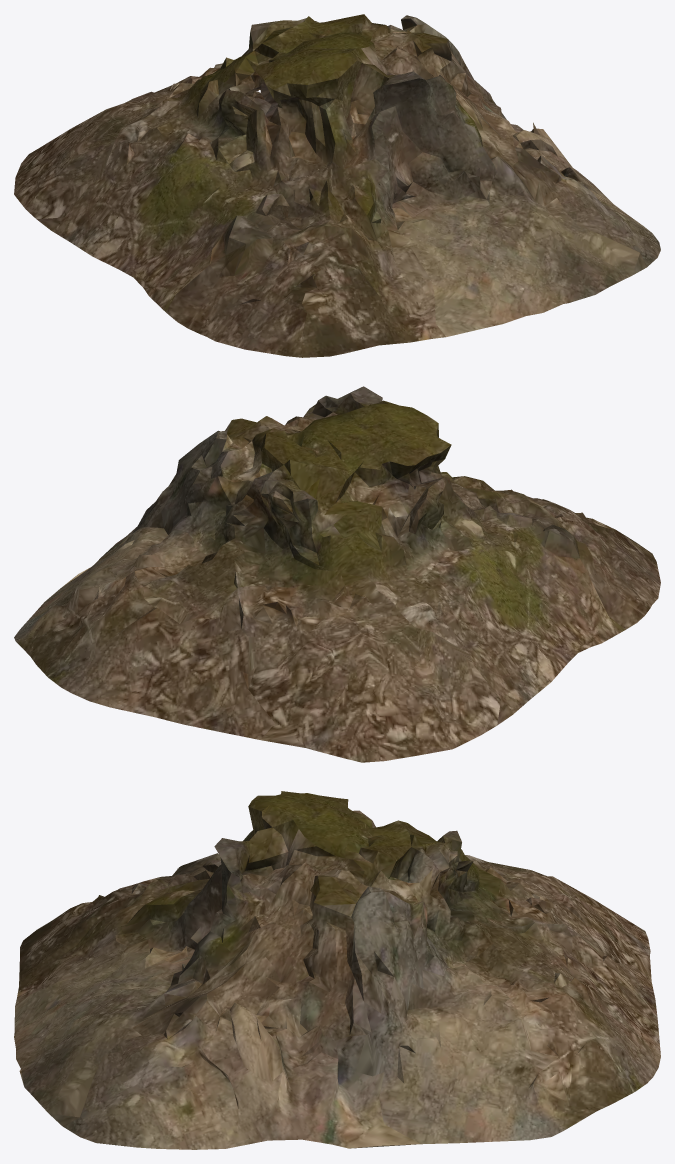
Rendered from tree-stump.glb.
3 views of the same model, one above another, from view 1: azimuth 30°, elevation 25°; view 2: azimuth 150°, elevation 25°; view 3: azimuth 270°, elevation 25° (orthographic). The views are drawn at different scales.
Parts seen in each view (by area): view 1: tree-stump; view 2: tree-stump; view 3: tree-stump.
Part boxes in pixels (left/top/right/bottom): tree-stump: left=14, top=14, right=660, bottom=357; tree-stump: left=14, top=386, right=660, bottom=762; tree-stump: left=14, top=791, right=660, bottom=1149.
Bounding box in the file's own units: 1.42 × 0.5732 × 1.59.
1 material, 1 textured.
